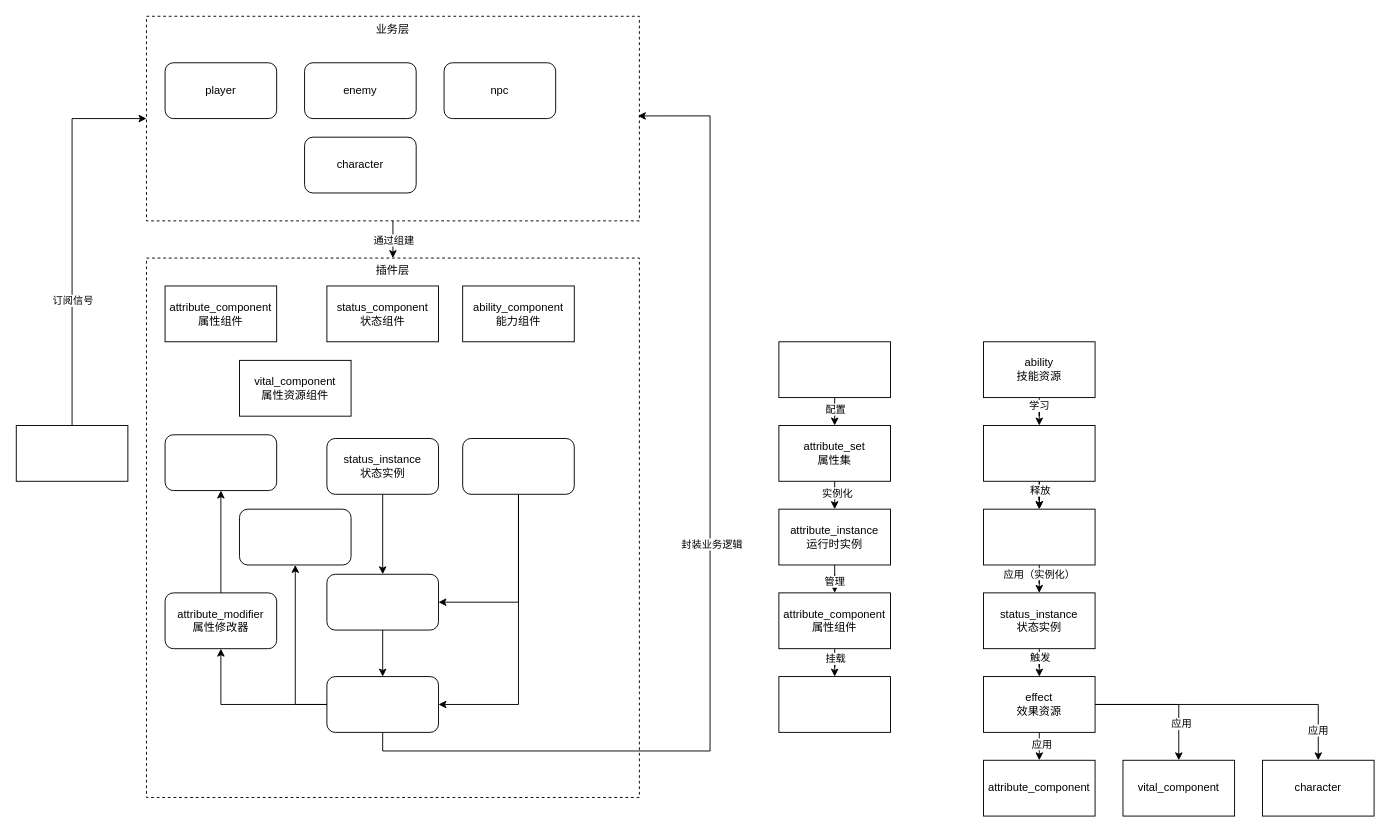
Image size: 1390x832. Some labels were removed from this diagram. The centre of each missing label's shape, as x and y in pixels:
ability_component 技能组件: the point at 1039,453
ability_instance 能力实例: the point at 518,466
ability_system: the point at 71,453
attribute 资源的定义: the point at 834,369
attribute_instance 属性实例: the point at 220,462
character 业务实体: the point at 834,704
effect 效果: the point at 382,704
status_data 状态数据: the point at 382,601
status_data 状态资源: the point at 1039,536
vital_instance 资源实例: the point at 295,536
